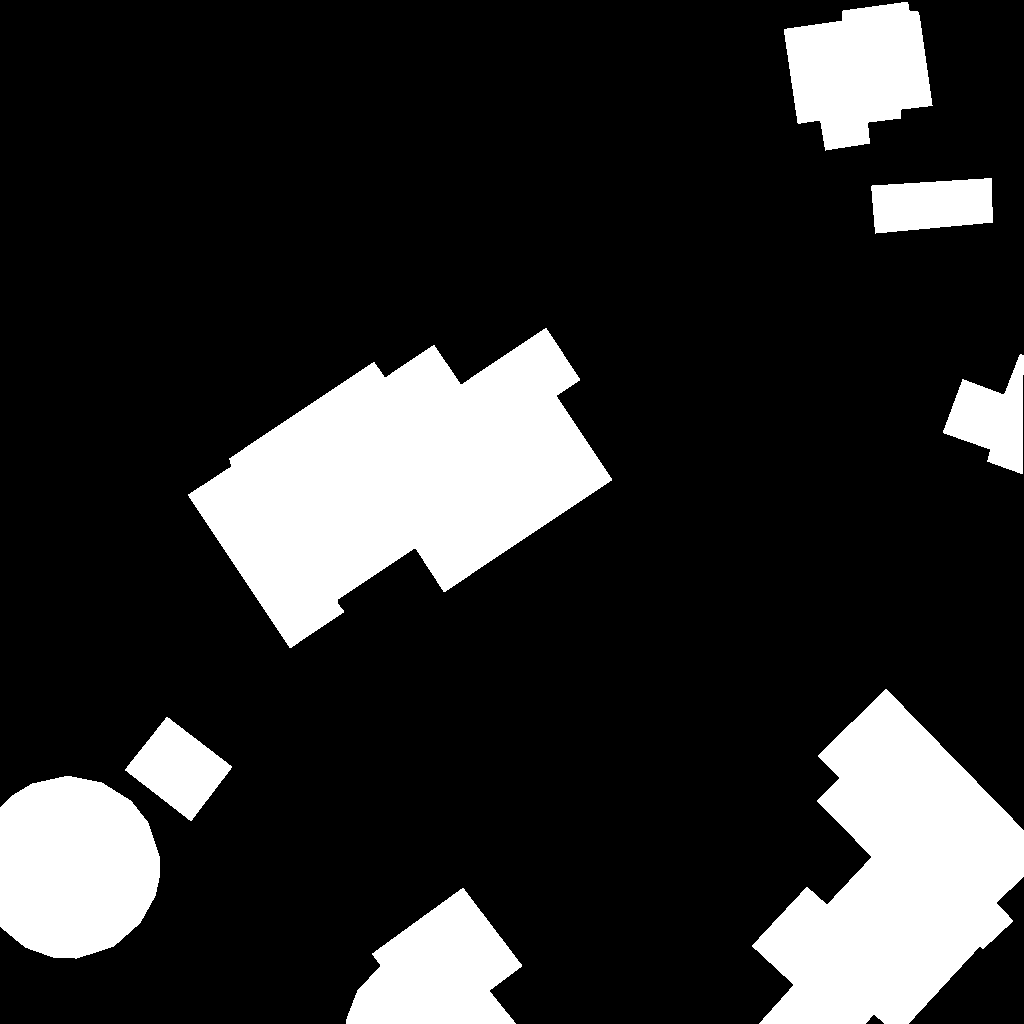building: (188, 328, 613, 649), (752, 689, 1024, 1024), (0, 776, 160, 959), (346, 888, 523, 1024), (784, 2, 933, 151), (125, 717, 233, 822), (943, 354, 1024, 475), (871, 178, 994, 234)
